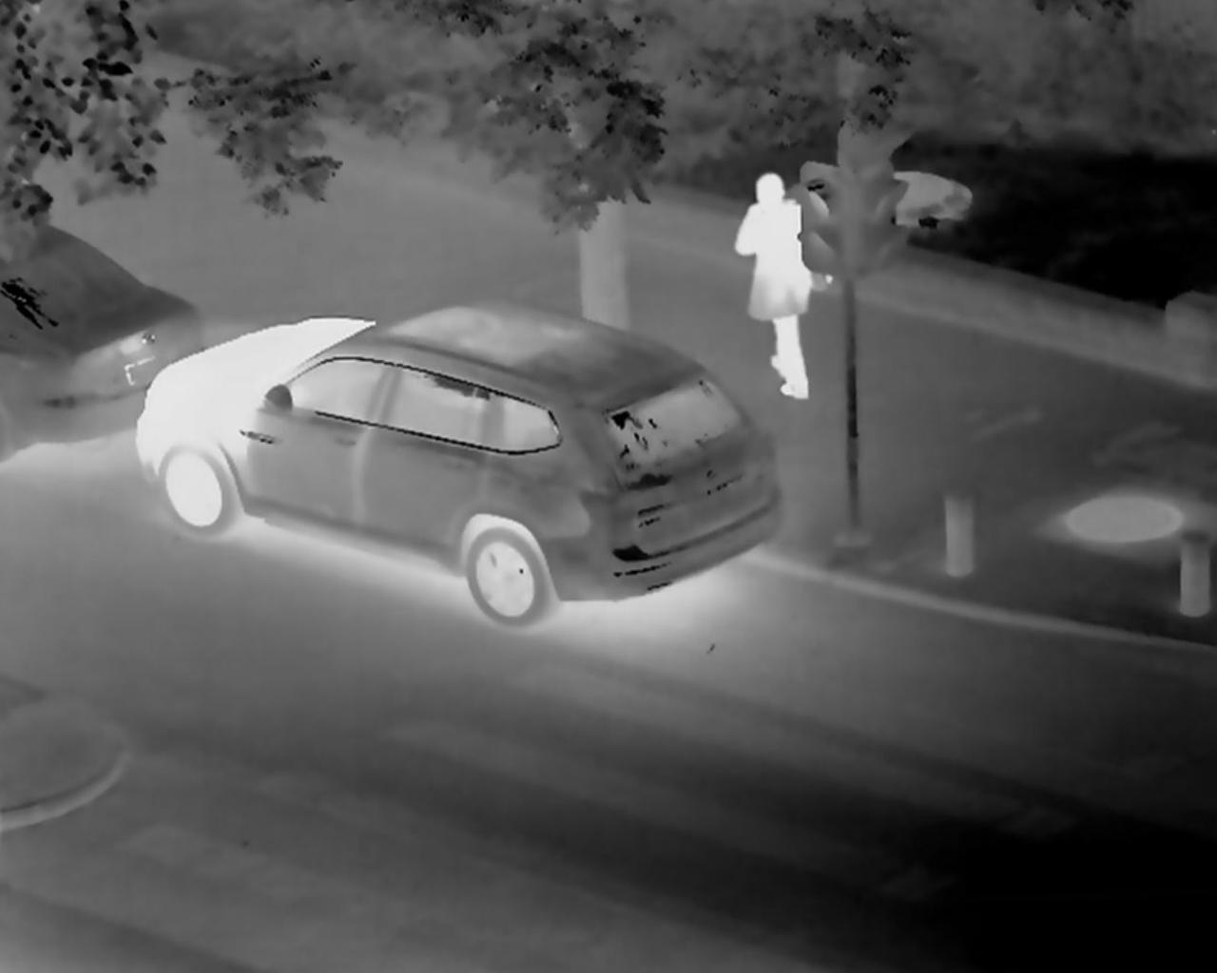person: (730, 157, 815, 396)
